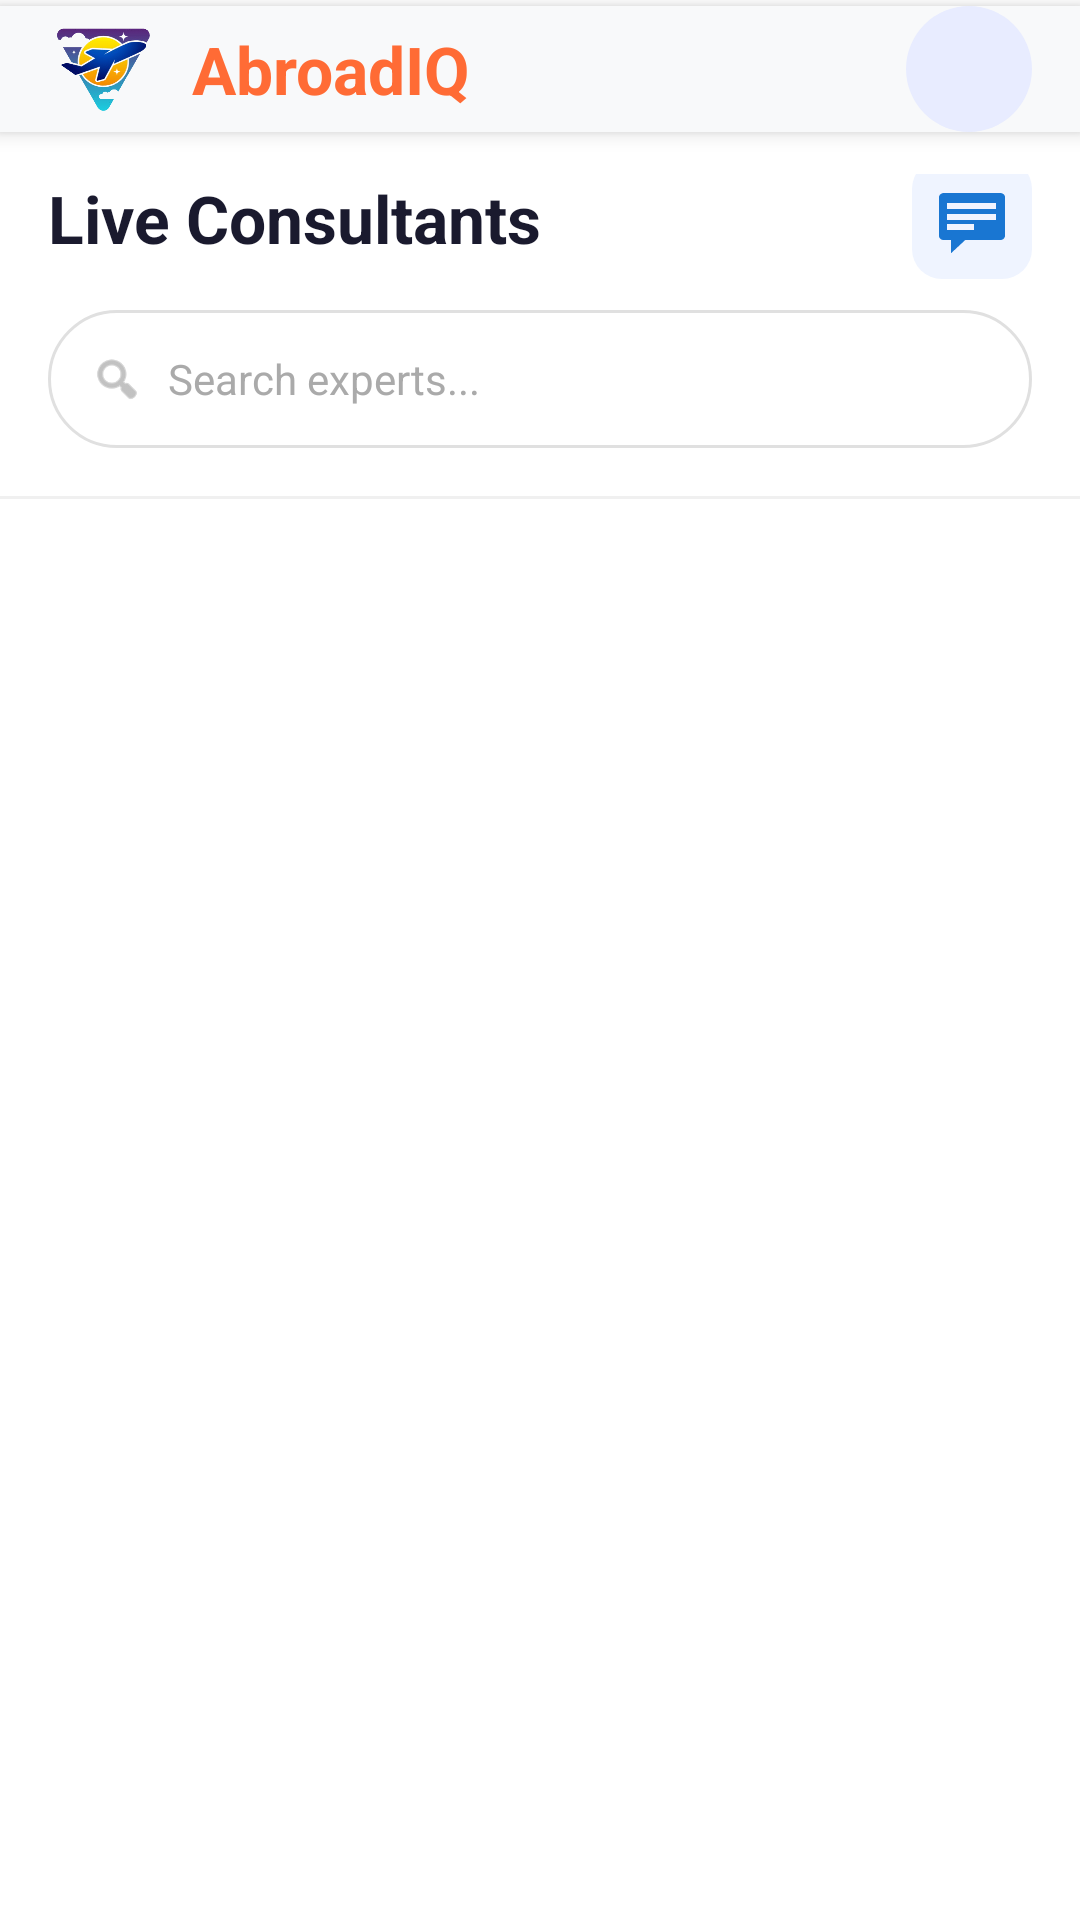

Icon click points for this 1080 x 1920 phone screenshot, format (x,y):
chat: (972,223)
